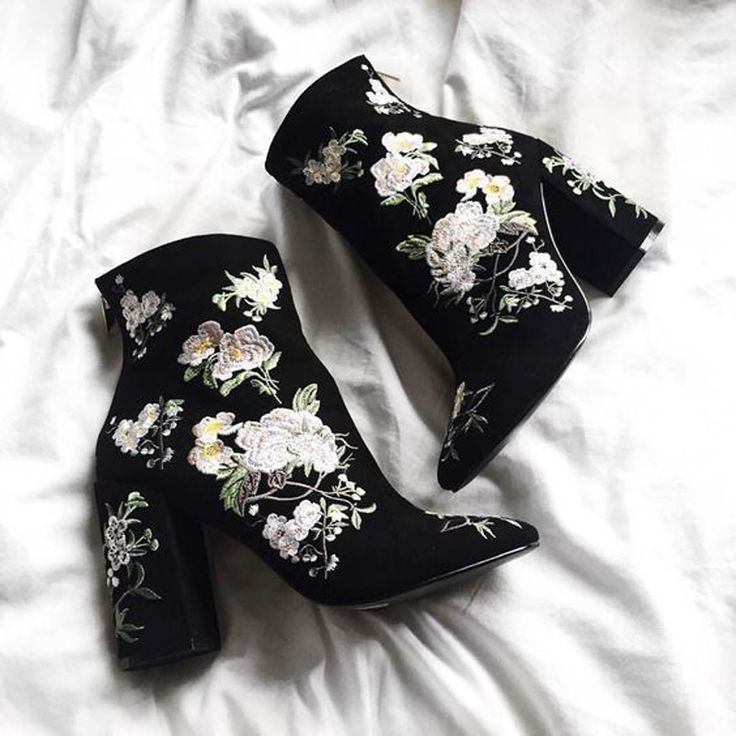gamuza: (95, 54, 665, 670)
